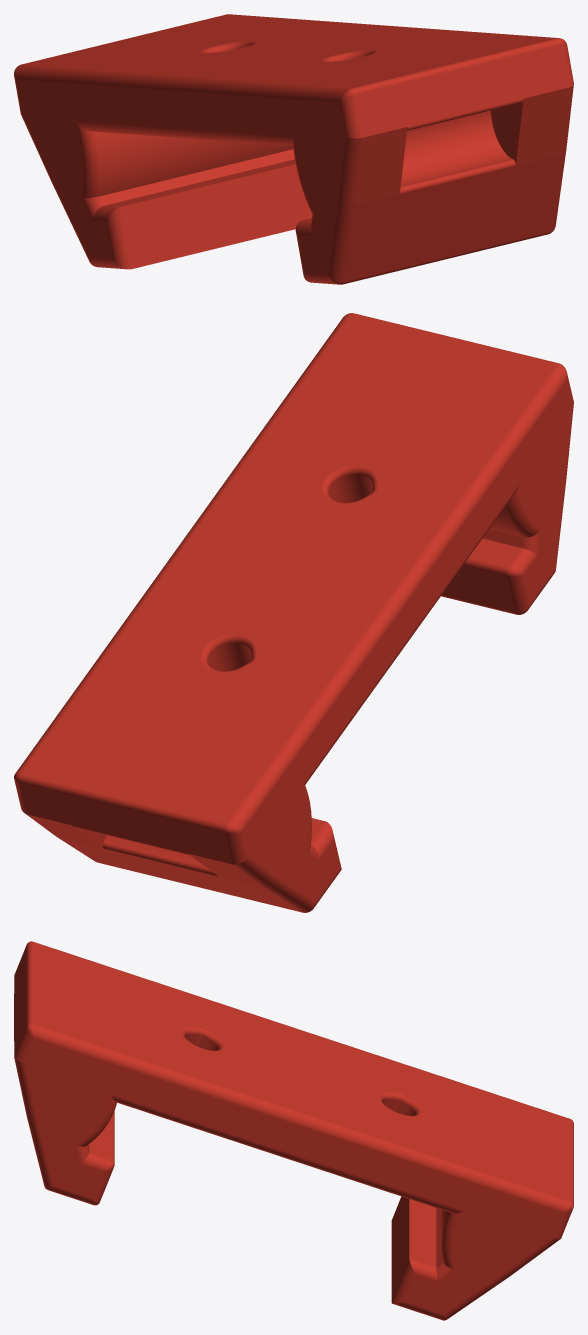
Rendered from EBoxNewAsm_stp_1_clip_recipient_4_stp_1_solid1.obj.
The picture shows the model from 3 angles, top to bottom: view 1: azimuth 30°, elevation 25°; view 2: azimuth 150°, elevation 25°; view 3: azimuth 270°, elevation 25°; orthographic projection. The views are drawn at different scales.
Parts seen in each view (by area): view 1: mesh14449, mesh14485, mesh14453, mesh14404, mesh14454, mesh14413, mesh14417, mesh14460, mesh14455, mesh14461, mesh14410, mesh14415 (+16 smaller); view 2: mesh14485, mesh14449, mesh14417, mesh14385, mesh14395, mesh14390, mesh14432, mesh14394, mesh14415, mesh14481, mesh14482, mesh14426 (+8 smaller); view 3: mesh14485, mesh14442, mesh14395, mesh14414, mesh14407, mesh14404, mesh14454, mesh14417, mesh14441, mesh14411, mesh14443, mesh14446 (+4 smaller).
Part boxes in pixels (box(x1,y1,x2,y2)): mesh14449: box(16, 79, 345, 274); mesh14485: box(23, 14, 555, 88); mesh14453: box(345, 155, 559, 281); mesh14404: box(121, 164, 312, 268); mesh14454: box(356, 45, 567, 137); mesh14413: box(95, 131, 293, 196); mesh14417: box(15, 64, 350, 102); mesh14460: box(400, 110, 512, 186); mesh14455: box(355, 127, 407, 204); mesh14461: box(515, 88, 567, 165); mesh14410: box(100, 149, 294, 205); mesh14415: box(75, 121, 293, 145); mesh14485: box(22, 315, 555, 823); mesh14449: box(242, 381, 571, 901); mesh14417: box(226, 365, 566, 831); mesh14385: box(20, 782, 231, 864); mesh14395: box(16, 314, 351, 773); mesh14390: box(60, 838, 301, 912); mesh14432: box(442, 565, 514, 612); mesh14394: box(20, 774, 225, 831); mesh14415: box(301, 482, 520, 786); mesh14481: box(328, 474, 372, 502); mesh14482: box(207, 643, 251, 671); mesh14426: box(469, 538, 521, 566); mesh14485: box(33, 942, 570, 1200); mesh14442: box(25, 1039, 561, 1313); mesh14395: box(33, 1024, 570, 1212); mesh14414: box(109, 1093, 465, 1213); mesh14407: box(409, 1199, 436, 1266); mesh14404: box(391, 1196, 409, 1301); mesh14454: box(14, 946, 26, 1056); mesh14417: box(33, 942, 570, 1119); mesh14441: box(27, 1118, 53, 1187); mesh14411: box(441, 1211, 465, 1269); mesh14443: box(14, 1058, 36, 1119); mesh14446: box(26, 942, 32, 1026).
Bounding box in the file's own units: 0.0205 × 0.0314 × 0.0539.
